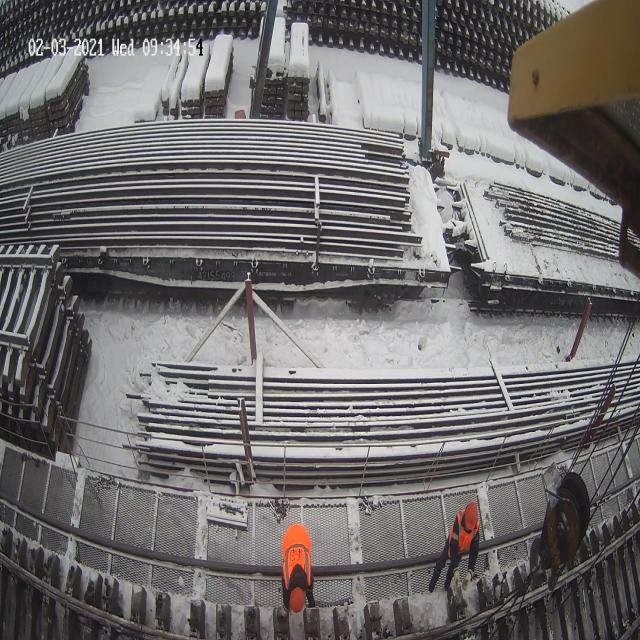Helmet: (284, 584, 312, 615), (464, 502, 477, 532)
Person: (277, 520, 322, 640), (428, 502, 480, 593)
